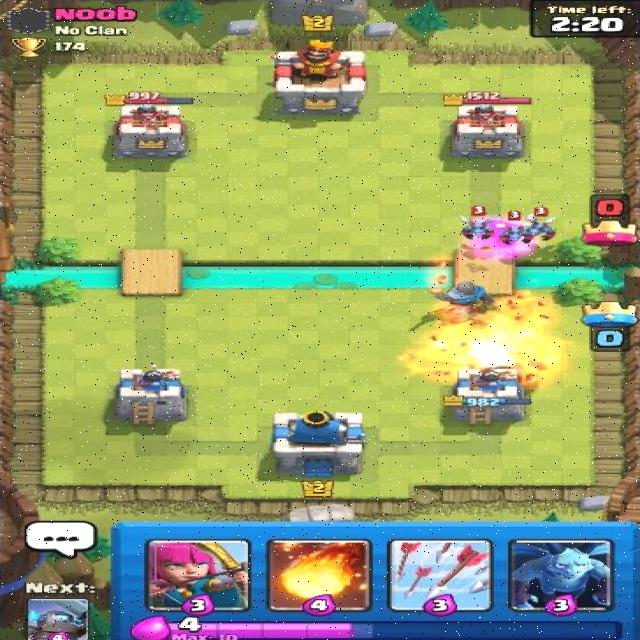Enemy-Minion: (452, 204, 501, 242), (492, 210, 536, 246), (519, 204, 559, 242)
Player-Knight: (420, 270, 505, 313)
